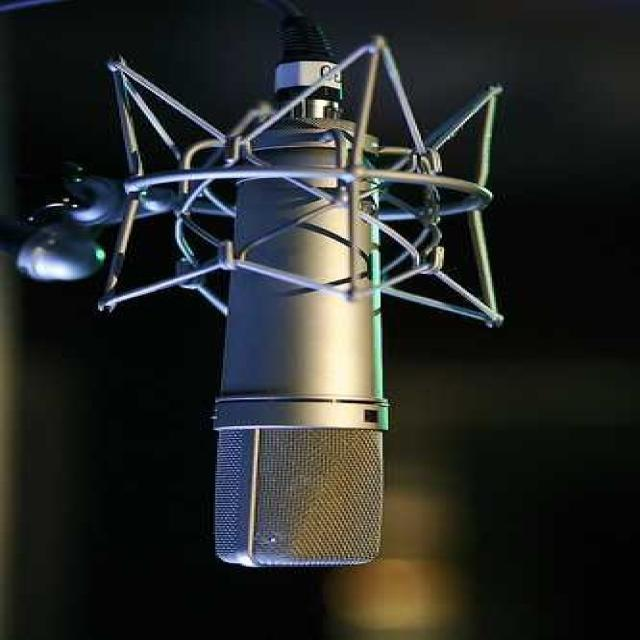microphone: (180, 60, 537, 594)
